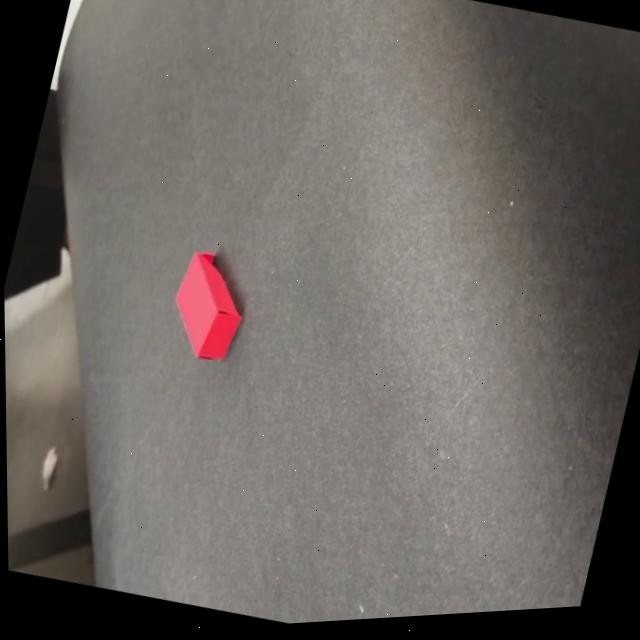red block: (158, 244, 256, 370)
